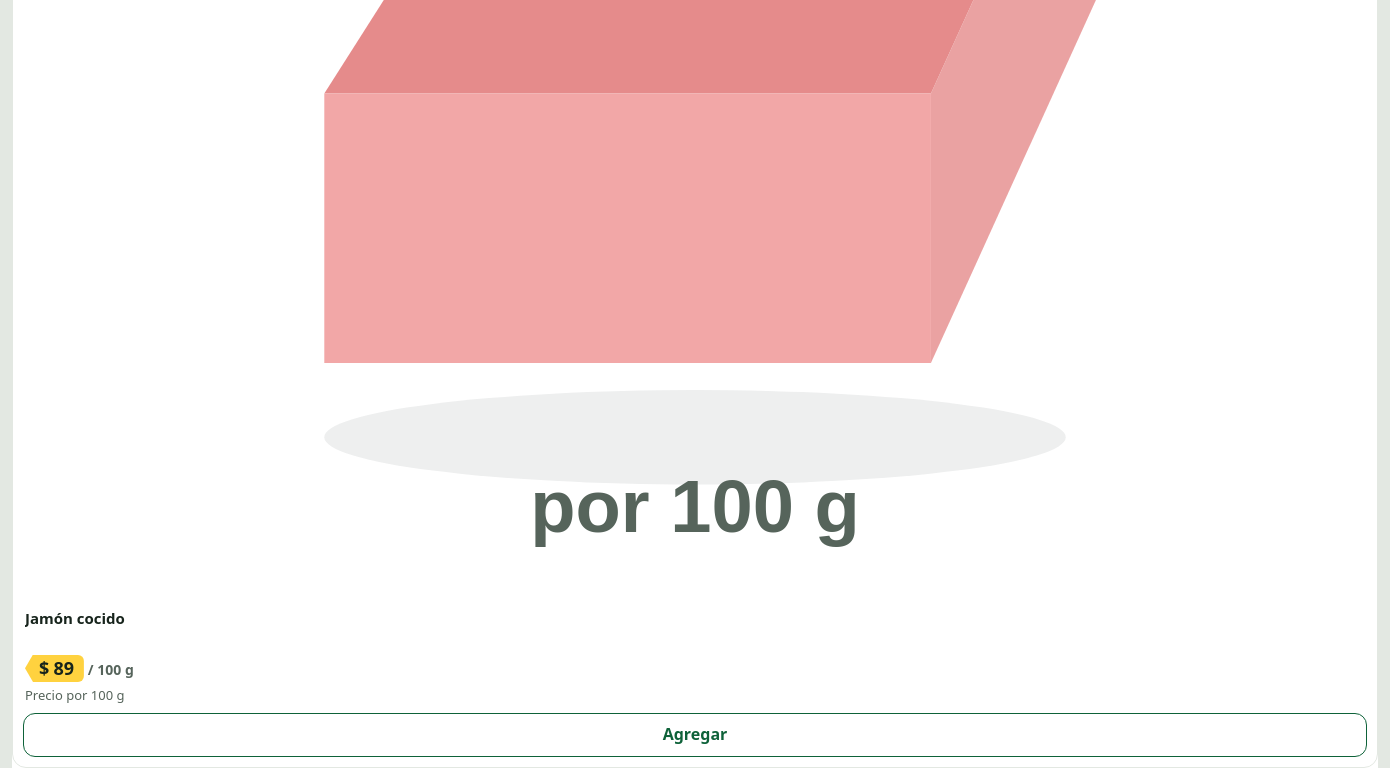
Test: ProductCard › producto por peso muestra "/ 100 g" y la cantidad en gramos
(page scrolled)
expect the text "/ 100 g" is shown: met, box [88,660,134,680]
expect the text "Precio por 100 g" is shown: met, box [25,686,124,704]
Click the button with aria-label "Agregar Jamón cocido" at [695, 735], box [23,713,1367,757]
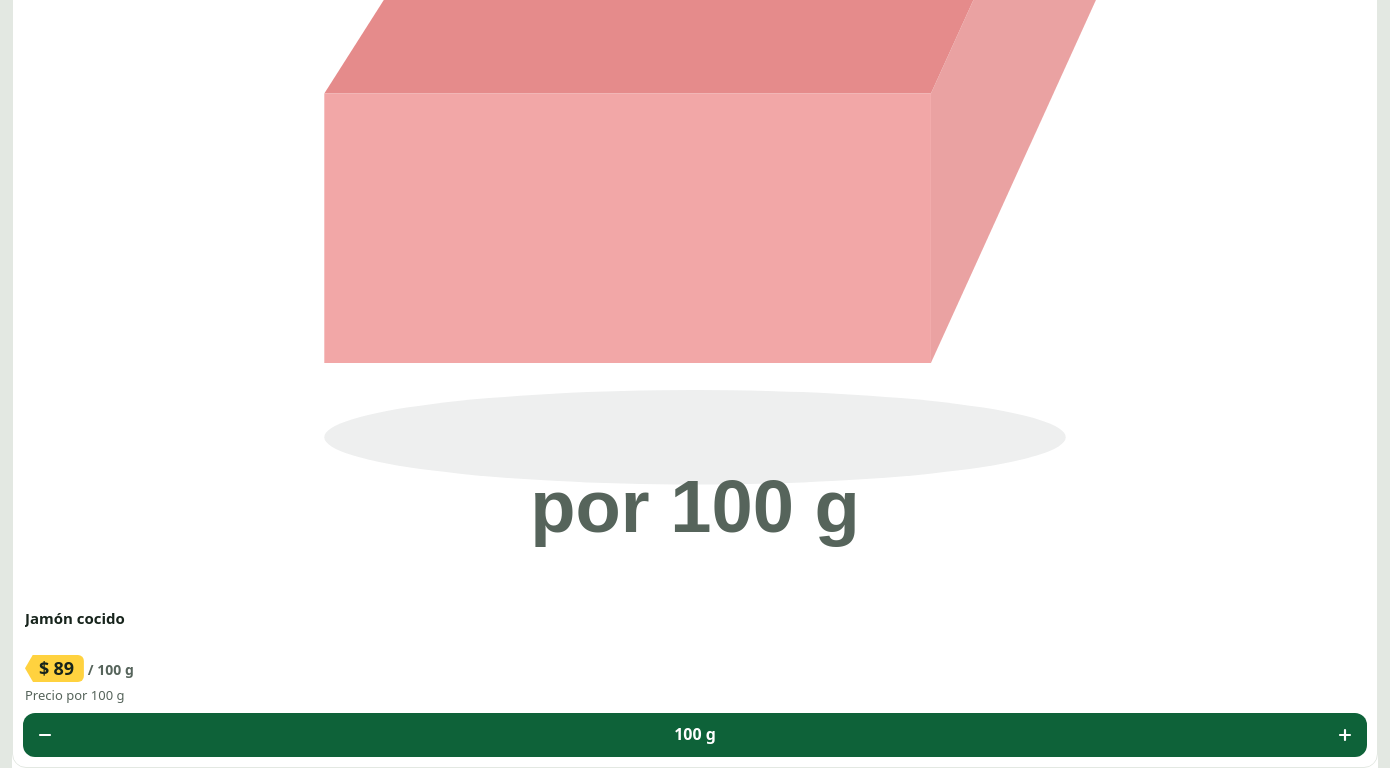
Click the button named "Agregar uno más" at [1345, 735], box [1323,713,1367,757]
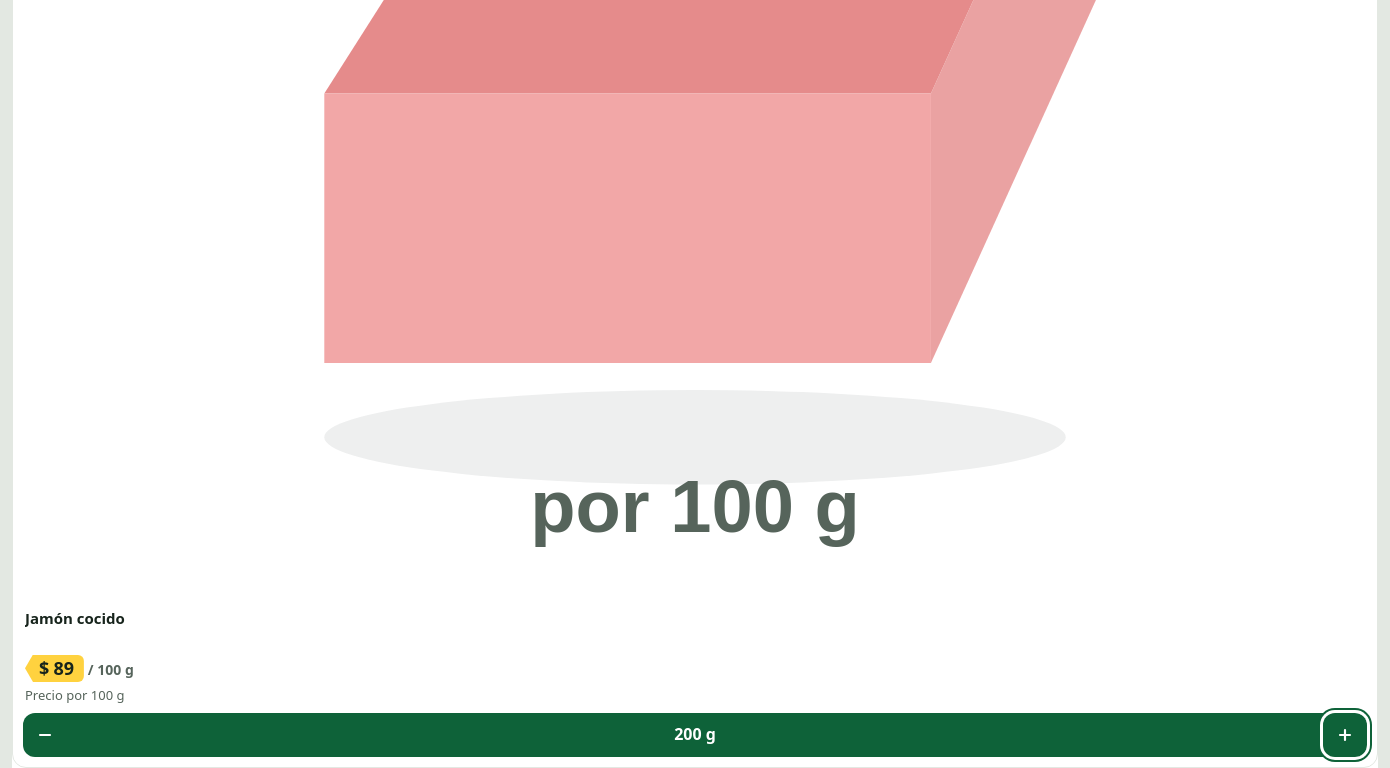
Click the button named "Agregar uno más" at [1345, 735], box [1323,713,1367,757]
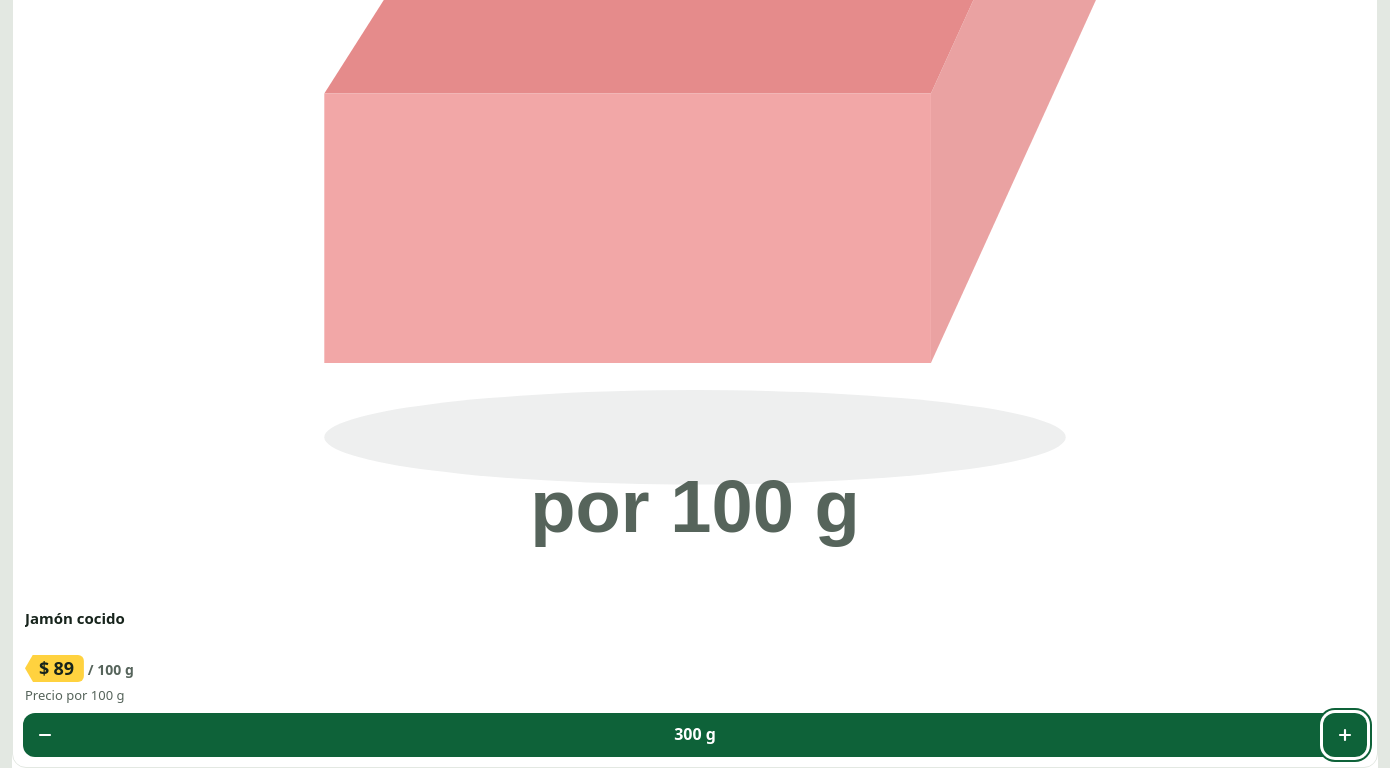
expect the text "300 g" is shown: met, box [674,723,716,746]
